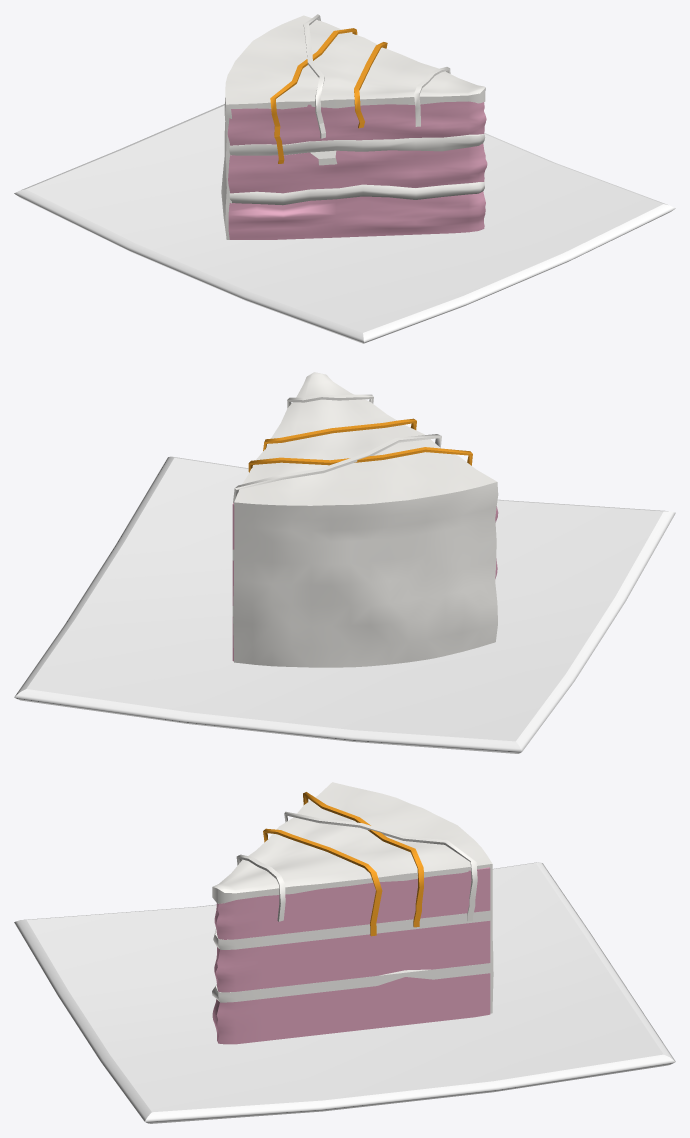
File: cake.glb
The picture shows the model from 3 angles, top to bottom: view 1: azimuth 30°, elevation 25°; view 2: azimuth 150°, elevation 25°; view 3: azimuth 270°, elevation 25°; orthographic projection. The views are drawn at different scales.
Visible parts, largest first — view 1: Box001, Cylinder006, Cylinder001, Cylinder003, Cylinder005, Cylinder004, Cylinder002, Plane003, Plane004, Plane002; view 2: Box001, Cylinder006, Plane004, Plane003, Plane002; view 3: Box001, Cylinder006, Cylinder001, Cylinder003, Cylinder005, Cylinder002, Cylinder004, Plane004, Plane003, Plane002, Plane001.
Part boxes in pixels (x1,y1,x2,y2): Box001: (14,104,675,343); Cylinder006: (221,15,485,239); Cylinder001: (228,191,485,239); Cylinder003: (228,143,487,193); Cylinder005: (227,101,486,145); Cylinder004: (229,133,485,165); Cylinder002: (229,182,484,205); Plane003: (270,28,357,163); Plane004: (303,14,325,138); Plane002: (354,42,387,128); Box001: (14,456,675,753); Cylinder006: (233,372,498,667); Plane004: (233,434,441,503); Plane003: (248,447,472,472); Plane002: (263,418,416,450); Box001: (14,862,675,1123); Cylinder006: (212,782,493,1013); Cylinder001: (212,973,490,1044); Cylinder003: (214,921,490,992); Cylinder005: (214,867,490,939); Cylinder002: (212,963,490,1002); Cylinder004: (213,910,490,949); Plane004: (284,811,477,921); Plane003: (303,792,423,927); Plane002: (263,828,382,936); Plane001: (236,854,285,921).
Size of the model in its own units: 4.07 by 1.29 by 4.4.
